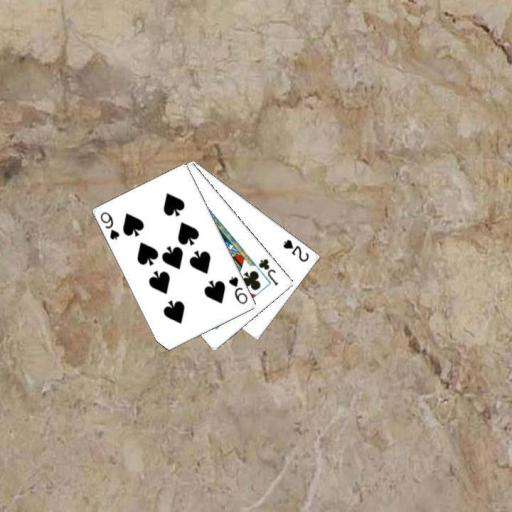card-corner: (280, 236, 311, 263), (255, 256, 280, 288), (226, 273, 250, 306), (98, 209, 122, 241)
